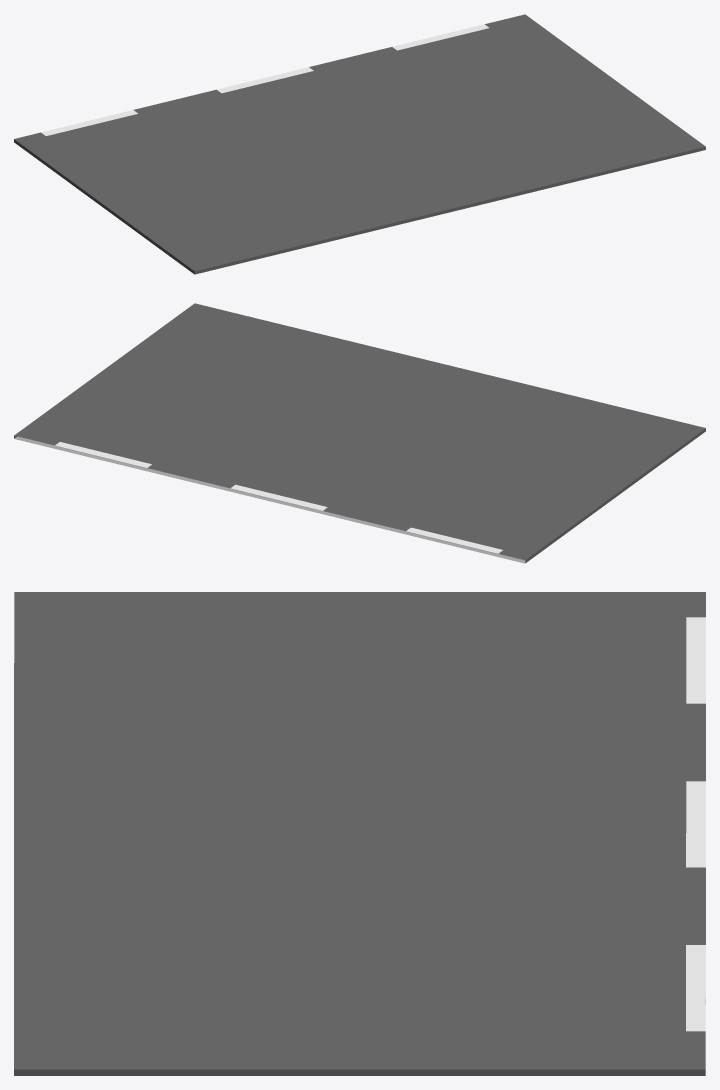
The model's file is Road.obj.
3 views of the same model, one above another, from view 1: azimuth 30°, elevation 25°; view 2: azimuth 150°, elevation 25°; view 3: azimuth 270°, elevation 25° (orthographic). The views are drawn at different scales.
Visible parts, largest first — view 1: Road_1_Cube.148_Road_1_Cube.202; view 2: Road_1_Cube.148_Road_1_Cube.202; view 3: Road_1_Cube.148_Road_1_Cube.202.
Boxes of the visible parts, x1,y1,x2,y2 form: Road_1_Cube.148_Road_1_Cube.202: (14,14,705,274); Road_1_Cube.148_Road_1_Cube.202: (14,303,705,563); Road_1_Cube.148_Road_1_Cube.202: (14,592,705,1075).
Size of the model in its own units: 40.43 by 0.25 by 24.76.
